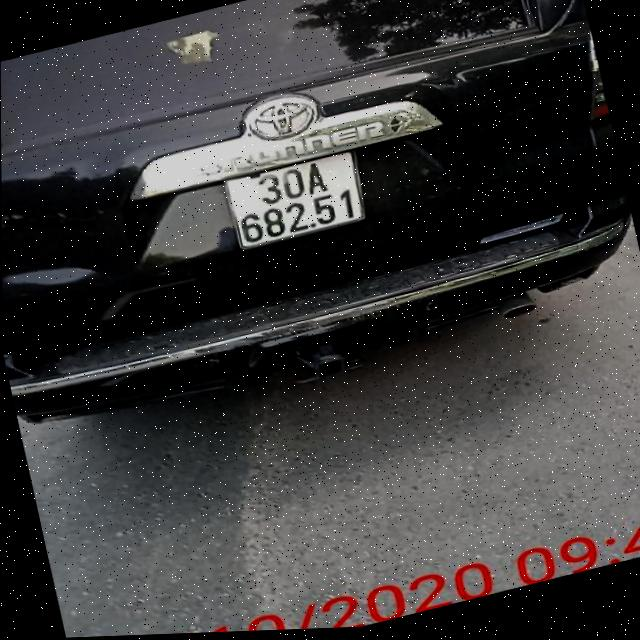car: (0, 0, 640, 445)
plate: (214, 138, 376, 259)
